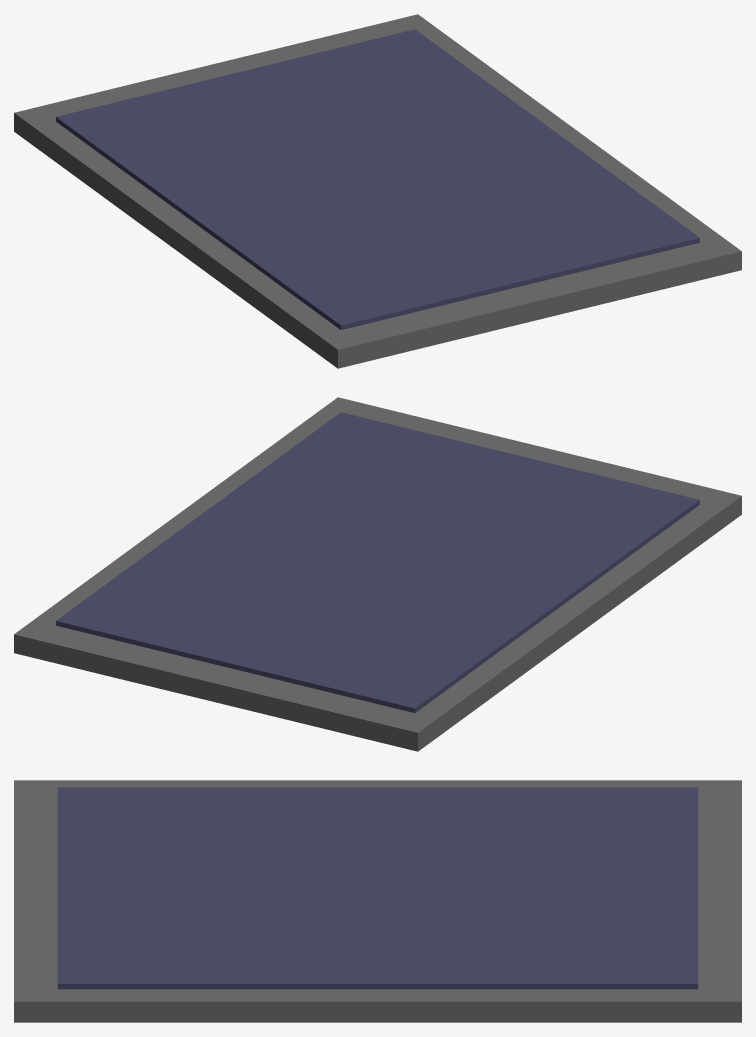
The model's file is tablet.glb.
3 renders of one model, top to bottom at view 1: azimuth 30°, elevation 25°; view 2: azimuth 150°, elevation 25°; view 3: azimuth 270°, elevation 25°, orthographic. The views are drawn at different scales.
Visible parts, largest first — view 1: screen, body; view 2: screen, body; view 3: screen, body.
Part boxes in pixels (left/top/right/bottom): screen: left=56, top=29, right=699, bottom=329; body: left=14, top=14, right=741, bottom=368; screen: left=56, top=412, right=699, bottom=712; body: left=14, top=397, right=741, bottom=751; screen: left=57, top=787, right=698, bottom=989; body: left=14, top=780, right=741, bottom=1022.
Size of the model in its own units: 0.18 by 0.014 by 0.25.
